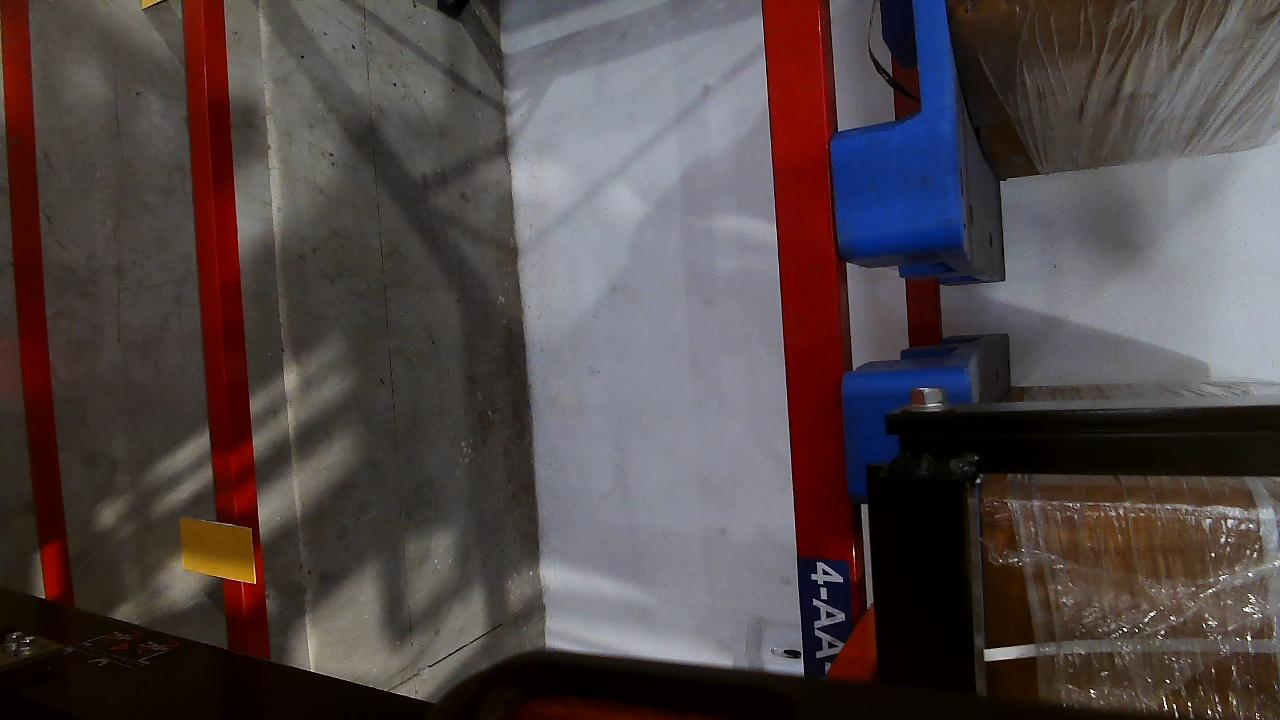h_rack: (760, 0, 853, 596), (183, 2, 261, 658)
orange_strip: (177, 522, 257, 582), (140, 0, 164, 9)
red_line: (0, 1, 67, 599)
small_pallet: (821, 0, 965, 243)
